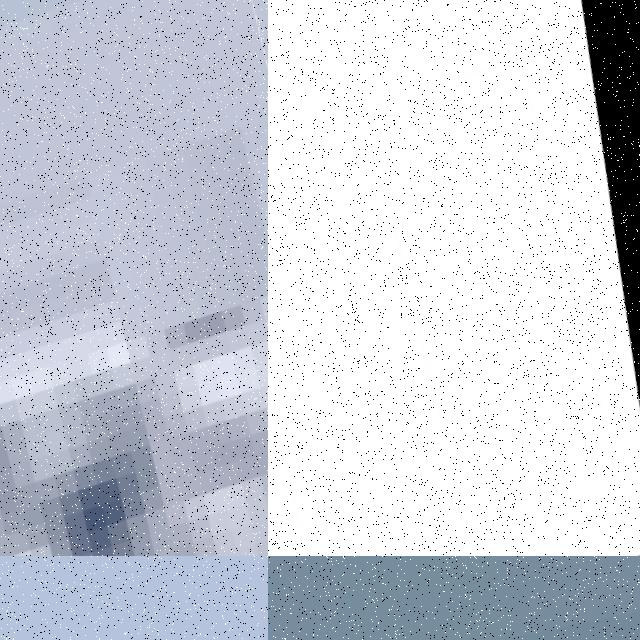0: (0, 0, 268, 556)
drone: (268, 0, 640, 556)
